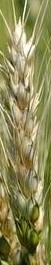Wheat scab: (2, 30, 46, 249)
